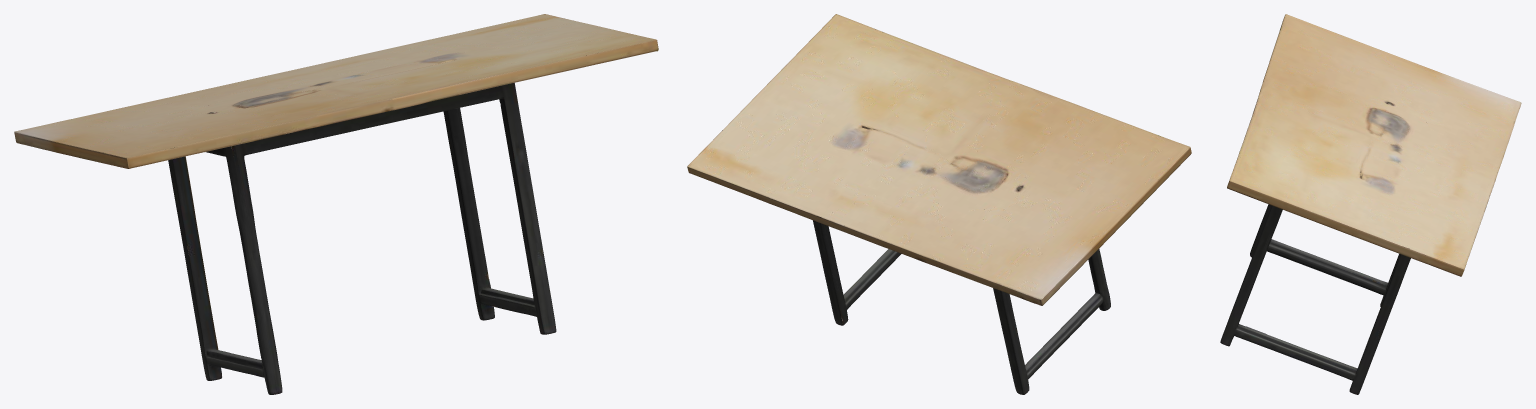
The model's file is wooden_conference_table_000.glb.
3 renders of one model, left to right at view 1: azimuth 30°, elevation 25°; view 2: azimuth 150°, elevation 25°; view 3: azimuth 270°, elevation 25°, orthographic. The views are drawn at different scales.
Visible parts, largest first — view 1: wooden_conference_table_000.obj; view 2: wooden_conference_table_000.obj; view 3: wooden_conference_table_000.obj.
Part boxes in pixels (bbox=[...]): wooden_conference_table_000.obj: bbox=[14, 14, 658, 394]; wooden_conference_table_000.obj: bbox=[687, 14, 1191, 394]; wooden_conference_table_000.obj: bbox=[1220, 14, 1521, 394].
Bounding box in the file's own units: 1.06 × 0.6299 × 0.6716.
Materials: 1 (1 with a texture image).
